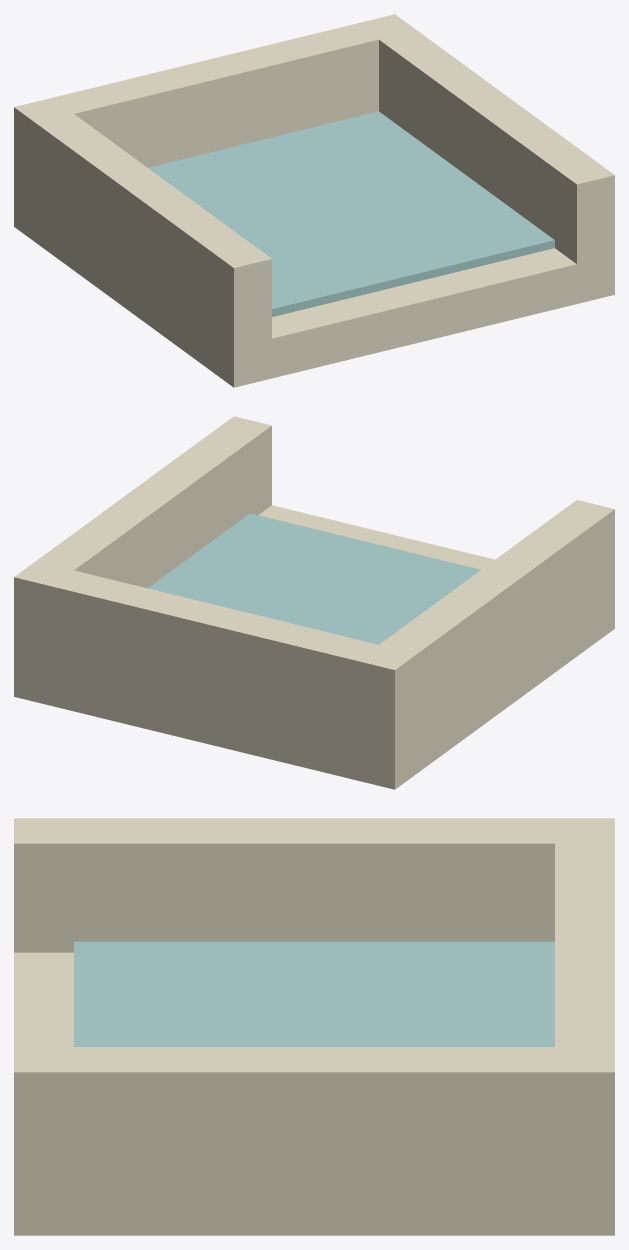
Rendered from cozy-farm-and-homestead-irrigation-elbow-80f1fc11__19377.glb.
3 renders of one model, top to bottom at view 1: azimuth 30°, elevation 25°; view 2: azimuth 150°, elevation 25°; view 3: azimuth 270°, elevation 25°, orthographic. The views are drawn at different scales.
Visible parts, largest first — view 1: irrigation-elbow; view 2: irrigation-elbow; view 3: irrigation-elbow.
Boxes of the visible parts, bbox=[...] form: irrigation-elbow: bbox=[14, 14, 614, 387]; irrigation-elbow: bbox=[14, 416, 614, 789]; irrigation-elbow: bbox=[14, 818, 614, 1235].
Bounding box in the file's own units: 1 × 0.3 × 1.
